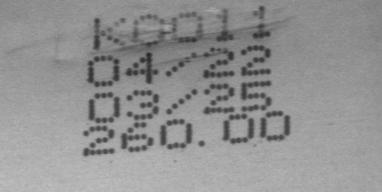.: (195, 137, 215, 154)
/: (162, 50, 201, 79), (163, 86, 202, 115)
0: (157, 115, 196, 153), (169, 9, 207, 46), (87, 88, 124, 126), (130, 13, 168, 49), (220, 112, 258, 148), (257, 110, 295, 144), (87, 55, 122, 88)
1: (212, 6, 241, 44), (250, 5, 273, 40)
2: (200, 45, 239, 80), (238, 42, 274, 79), (200, 80, 238, 115), (82, 125, 117, 158)
3: (126, 88, 161, 121)
4: (123, 51, 162, 87)
5: (236, 79, 277, 115)
6: (119, 119, 157, 155)
K: (90, 15, 129, 52)
